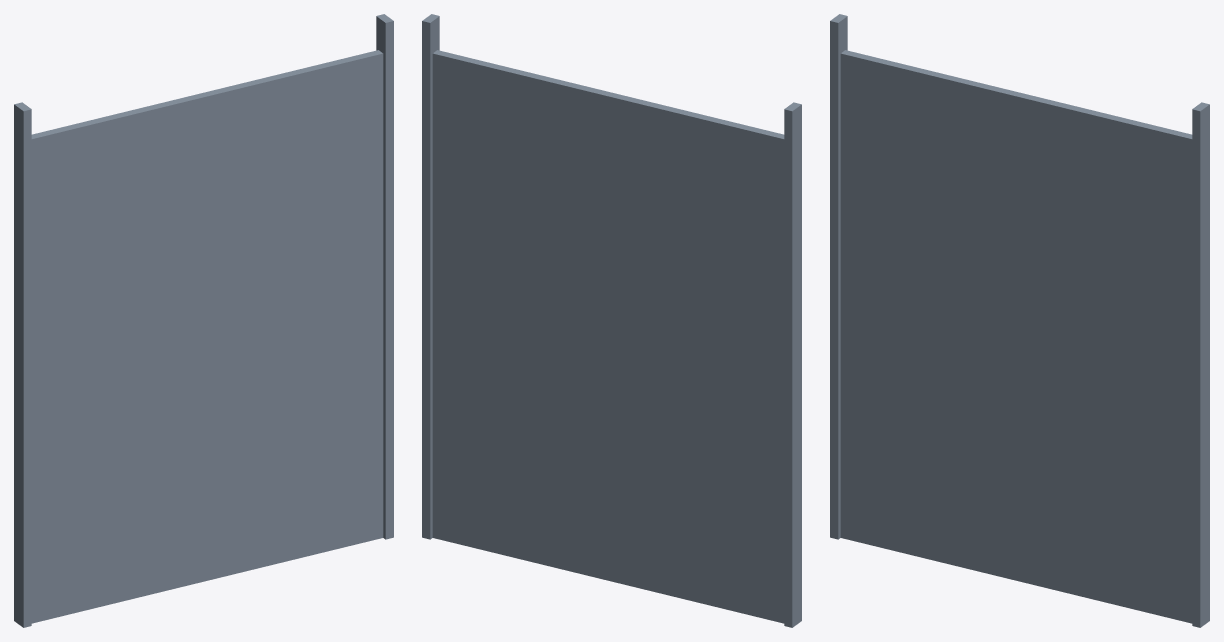
Rendered from aws_robomaker_warehouse_DockDoor_01_visual.DAE.
3 renders of one model, left to right at view 1: azimuth 30°, elevation 25°; view 2: azimuth 150°, elevation 25°; view 3: azimuth 330°, elevation 25°, orthographic.
Visible parts, largest first — view 1: aws_robomaker_warehouse_DockDoor_01_visual; view 2: aws_robomaker_warehouse_DockDoor_01_visual; view 3: aws_robomaker_warehouse_DockDoor_01_visual.
Part boxes in pixels (x1=…): aws_robomaker_warehouse_DockDoor_01_visual: x1=14, y1=14, x2=393, y2=627; aws_robomaker_warehouse_DockDoor_01_visual: x1=422, y1=14, x2=801, y2=627; aws_robomaker_warehouse_DockDoor_01_visual: x1=830, y1=14, x2=1209, y2=627.
Size of the model in its own units: 3.6 by 0.16 by 4.8.
